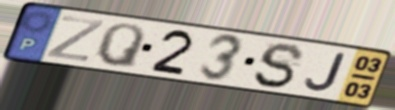2: (148, 28, 195, 77)
3: (196, 31, 246, 85)
J: (302, 52, 347, 93)
Q: (93, 22, 147, 71)
S: (250, 41, 307, 90)
Z: (43, 14, 108, 64)
